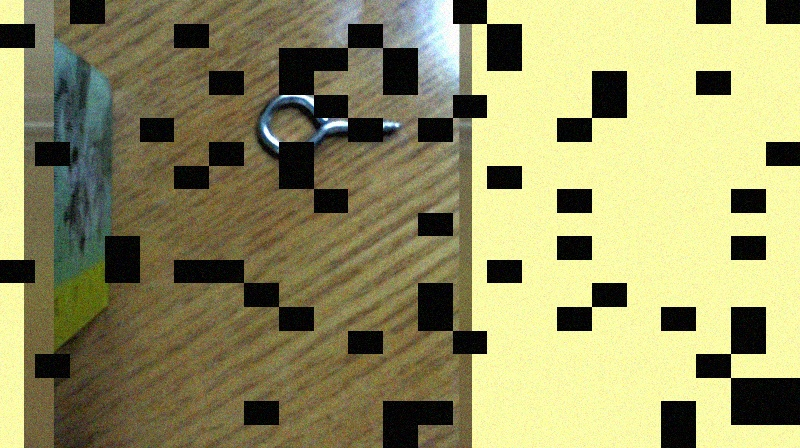O001: (249, 85, 402, 165)
